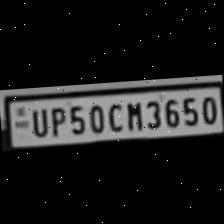0: (196, 91, 218, 124), (84, 100, 105, 132)
3: (141, 95, 161, 128)
5: (64, 100, 86, 134), (178, 92, 198, 125)
6: (160, 93, 180, 126)
C: (102, 99, 124, 131)
M: (122, 98, 142, 131)
P: (46, 102, 66, 136)
U: (26, 104, 48, 136)
